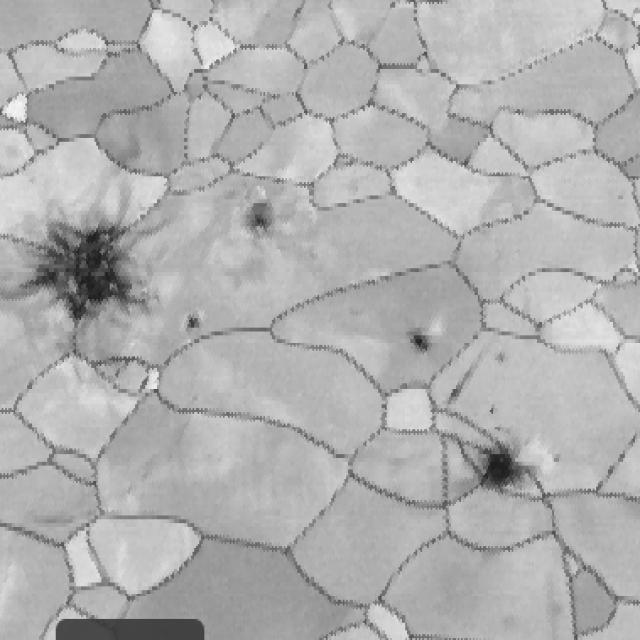good_void: (4, 180, 160, 335), (462, 427, 540, 492), (244, 184, 286, 231), (446, 362, 478, 408), (396, 327, 435, 360), (548, 447, 566, 469), (184, 313, 205, 330), (494, 350, 510, 371), (486, 403, 503, 421), (387, 0, 399, 13)
